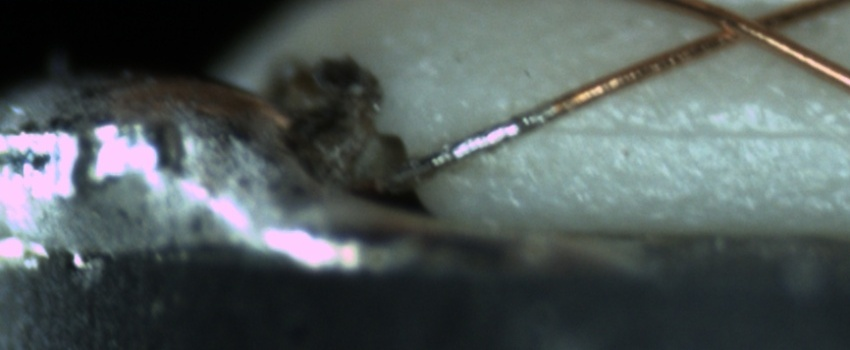CL: (684, 2, 807, 55)
DL: (513, 99, 850, 163)
TS: (360, 99, 556, 198)
